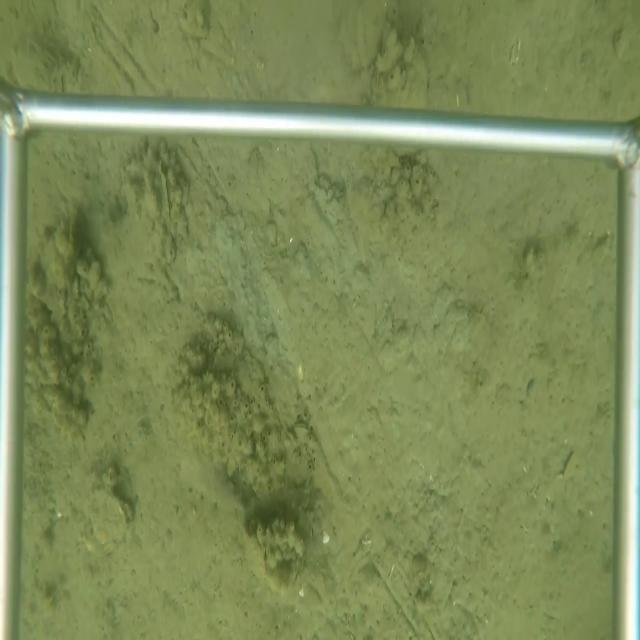Oyster-Closed: (155, 151, 174, 230)
Oyster-Indeterminate: (338, 2, 387, 73)
